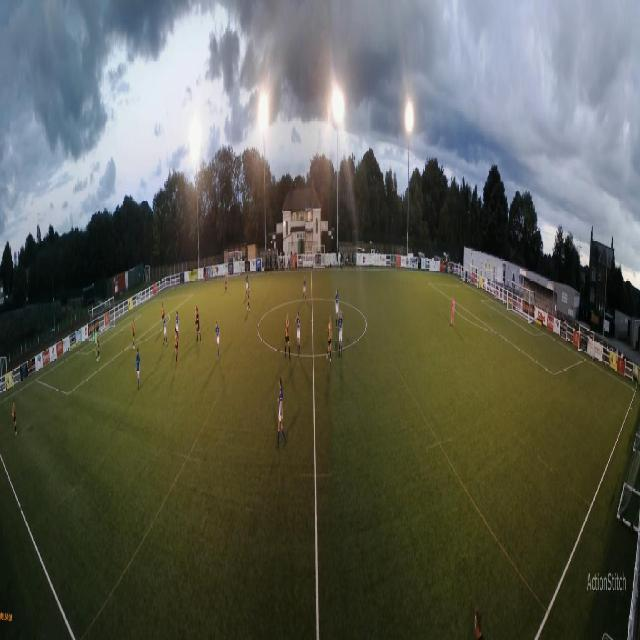ball: (96, 357, 98, 364)
player: (275, 375, 287, 449), (326, 315, 332, 364), (285, 312, 291, 360), (295, 310, 301, 358), (135, 346, 141, 391), (214, 320, 220, 361), (338, 310, 343, 359), (335, 288, 340, 332), (174, 327, 179, 365), (12, 399, 17, 436), (163, 312, 168, 348), (197, 308, 202, 342), (450, 295, 455, 327), (131, 319, 136, 350), (175, 310, 179, 344), (247, 282, 251, 312), (94, 328, 98, 357), (97, 333, 101, 361), (161, 302, 165, 330), (245, 272, 249, 300), (303, 275, 307, 303), (195, 304, 198, 334), (225, 271, 228, 293)
